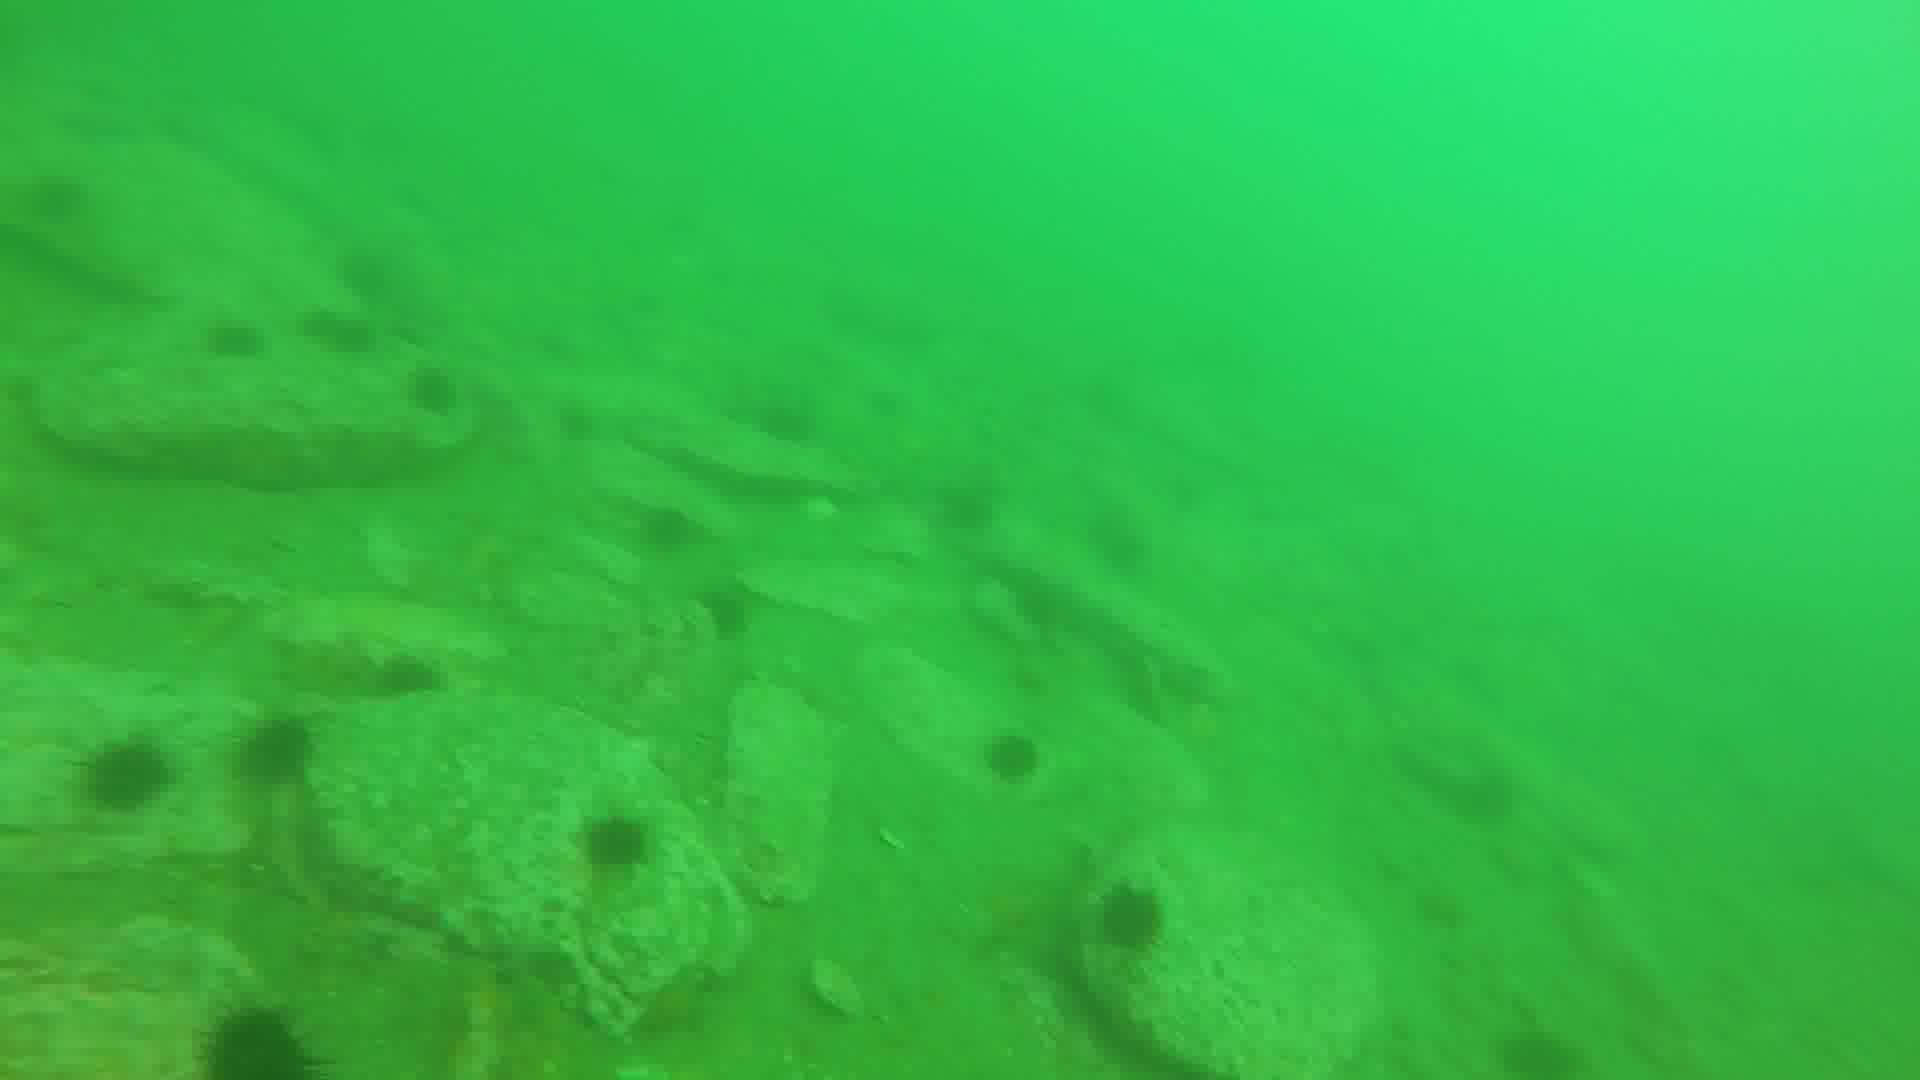echinus: (204, 1000, 313, 1080), (84, 736, 169, 816), (237, 712, 311, 794), (1495, 1019, 1584, 1080), (1100, 881, 1164, 953), (587, 815, 650, 886), (1093, 517, 1153, 584), (938, 475, 1000, 534), (378, 651, 442, 702), (992, 735, 1043, 794), (700, 585, 752, 640), (411, 371, 464, 419), (210, 320, 264, 361), (323, 313, 371, 359)
